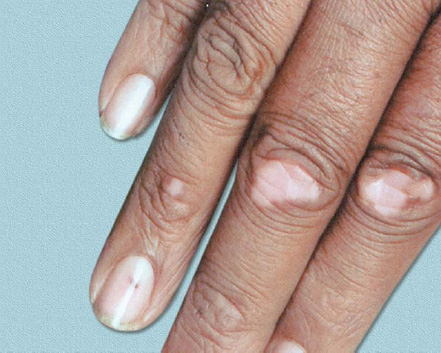Diseased: (125, 67, 406, 338)
